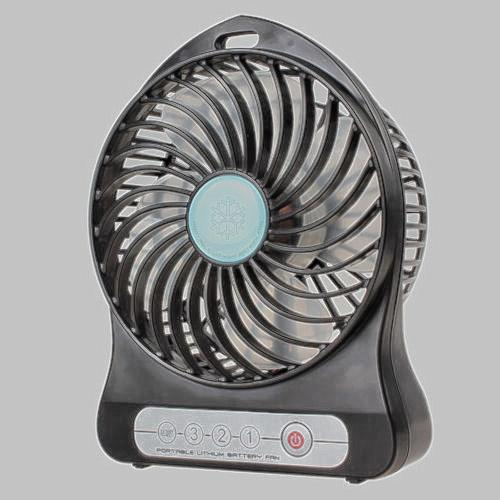fan: (78, 38, 435, 462)
